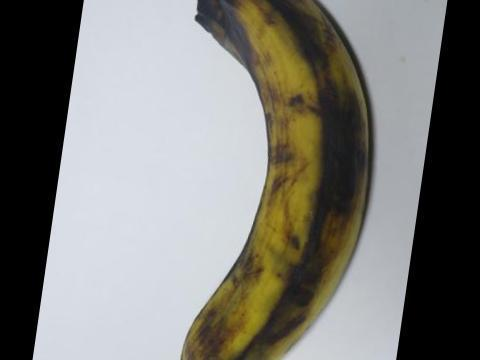overripe: (162, 0, 400, 359)
